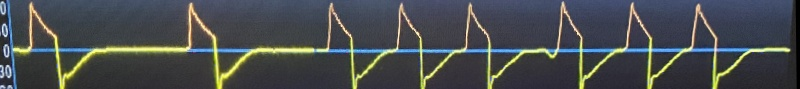normal_flow: (15, 0, 757, 89)
